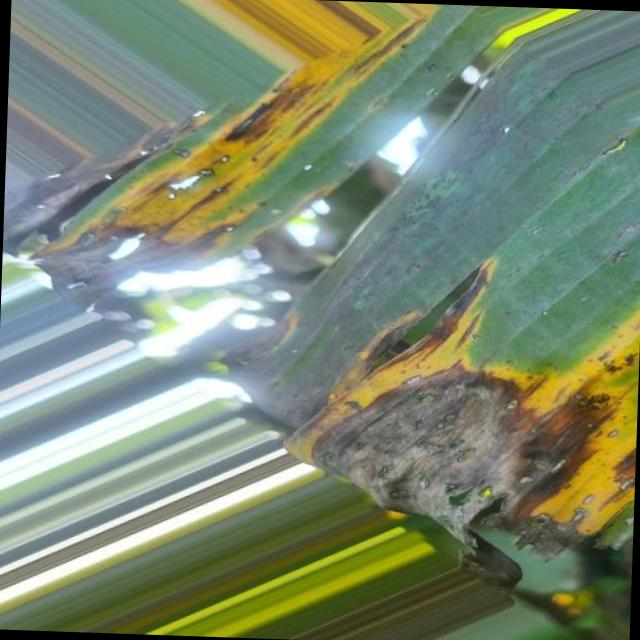Banana_Black_Sigatoka: (0, 22, 346, 316), (285, 320, 640, 589)
